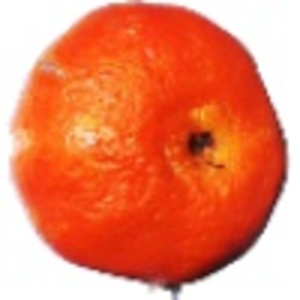tangerina: (7, 1, 292, 300)
